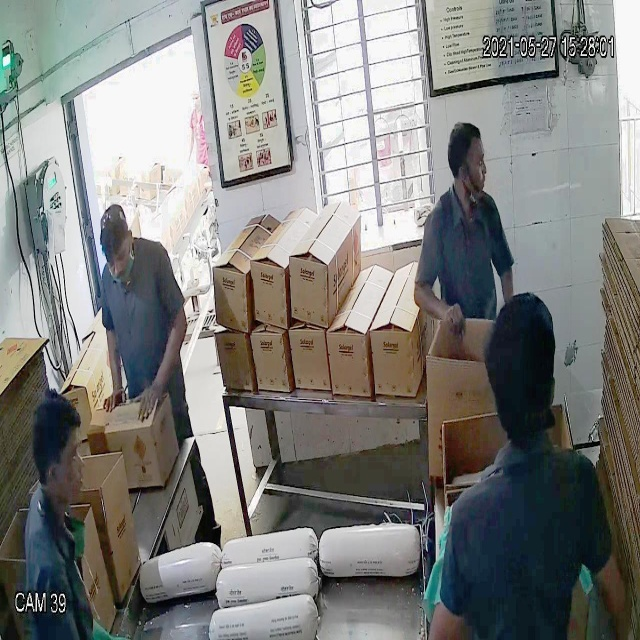Sin_gafas: (451, 153, 487, 180), (100, 244, 131, 272)
